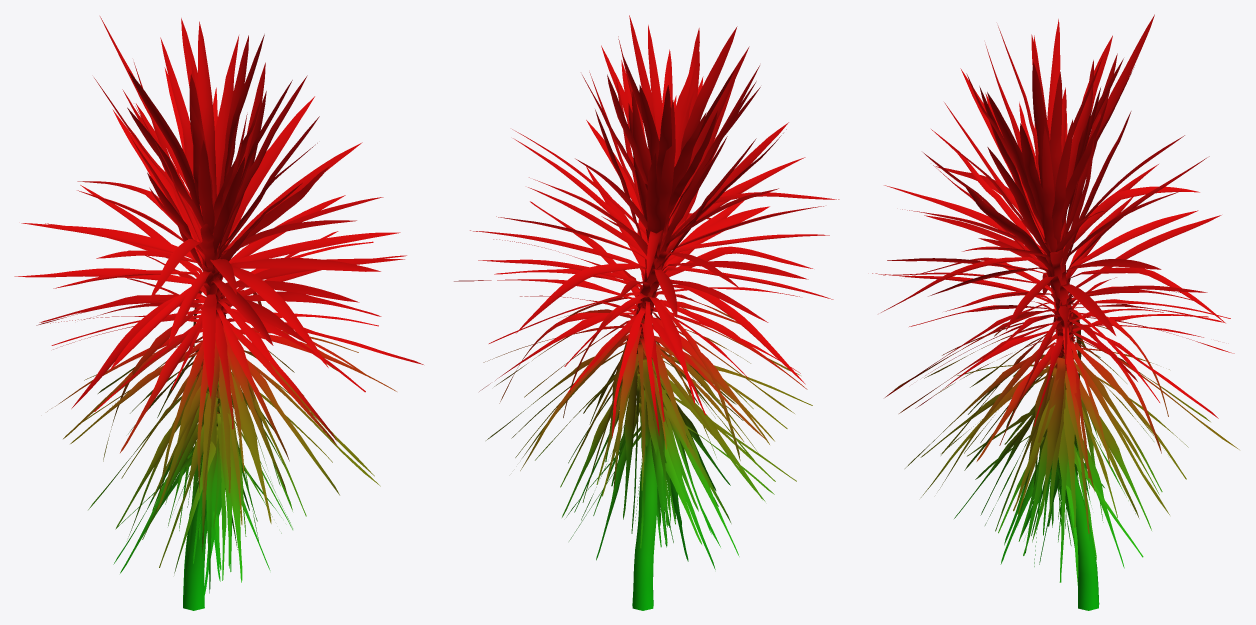
File: Var4_LOD2.fbx
3 views of the same model, side by side, from view 1: azimuth 30°, elevation 25°; view 2: azimuth 150°, elevation 25°; view 3: azimuth 270°, elevation 25° (orthographic). The views are drawn at different scales.
Parts seen in each view (by area): view 1: _tpot_Var4_LOD2; view 2: _tpot_Var4_LOD2; view 3: _tpot_Var4_LOD2.
Boxes of the visible parts, x1=… form: _tpot_Var4_LOD2: x1=14, y1=16, x2=423, y2=610; _tpot_Var4_LOD2: x1=454, y1=15, x2=839, y2=610; _tpot_Var4_LOD2: x1=872, y1=14, x2=1239, y2=610.
Bounding box in the file's own units: 87.24 × 148 × 88.71.
